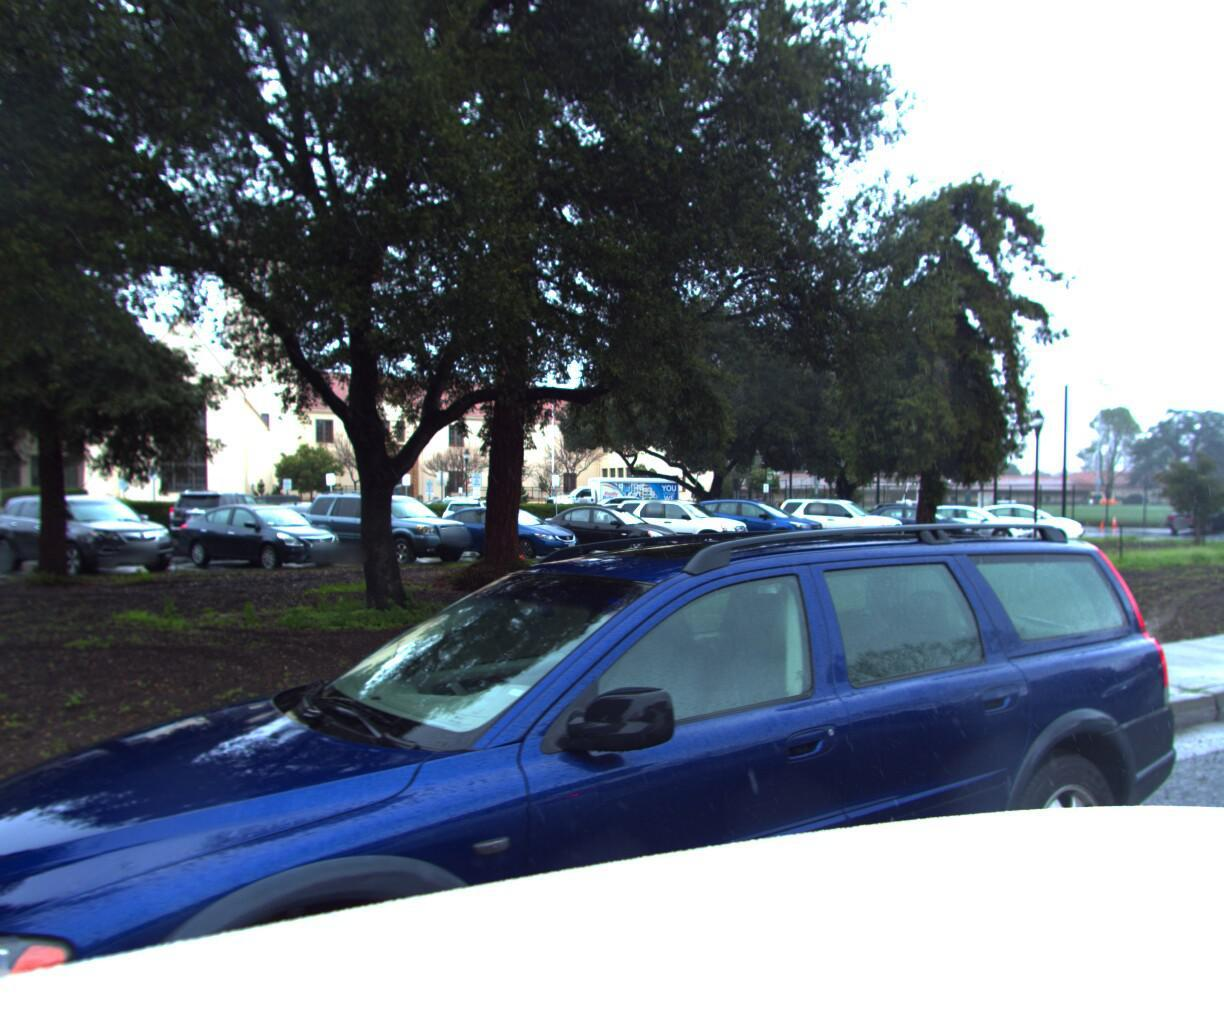car: (0, 511, 1224, 1024)
